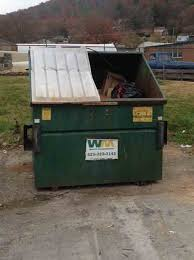Dumpster: (21, 48, 172, 189)
